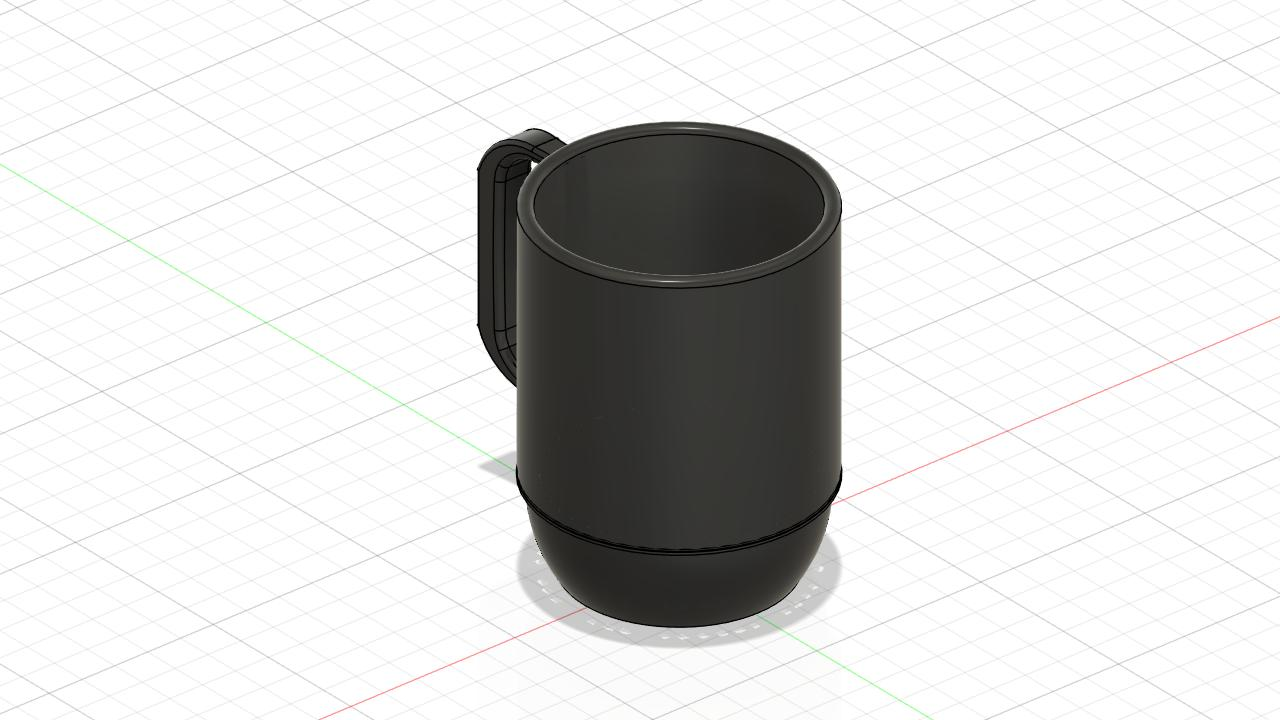mug-real100-3d100: (478, 122, 841, 627)
